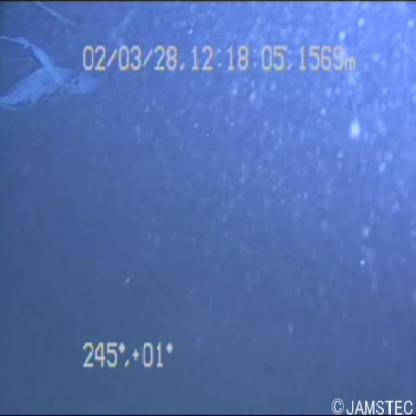Rác: (1, 30, 104, 125)
